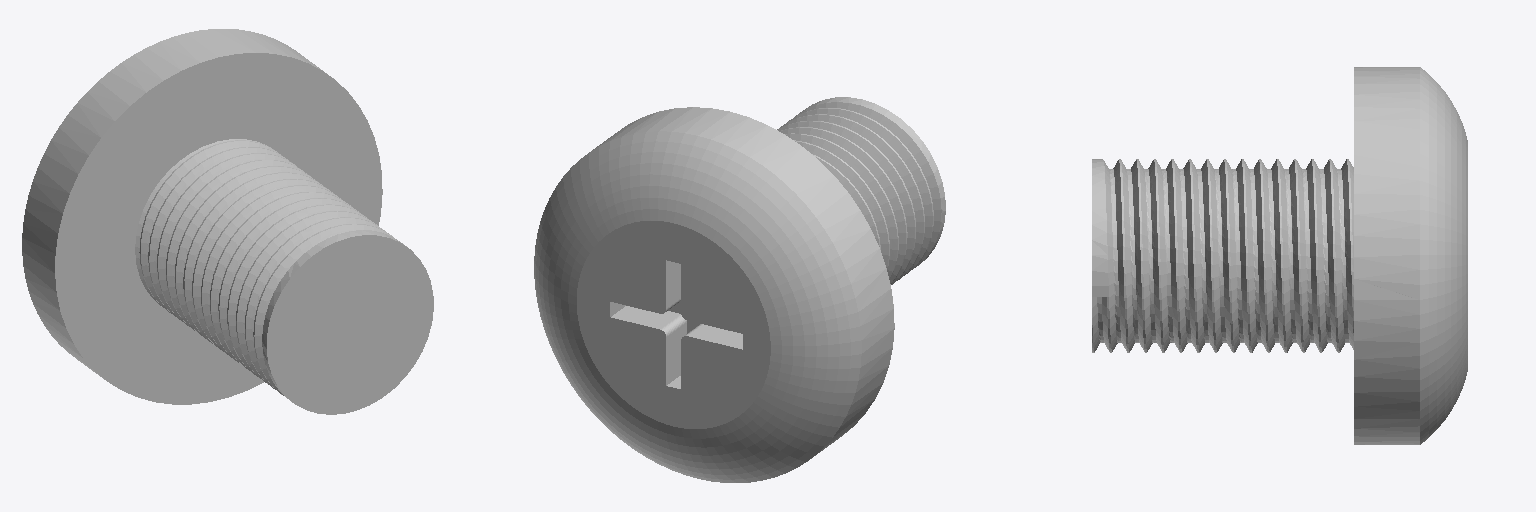
File: screw_3-16.obj
The picture shows the model from 3 angles: view 1: azimuth 30°, elevation 25°; view 2: azimuth 150°, elevation 25°; view 3: azimuth 270°, elevation 25°; orthographic projection.
Visible parts, largest first — view 1: screw_3by16; view 2: screw_3by16; view 3: screw_3by16.
Boxes of the visible parts, x1,y1,x2,y2 form: screw_3by16: [22, 29, 433, 414]; screw_3by16: [534, 97, 945, 482]; screw_3by16: [1092, 67, 1467, 444].
Bounding box in the file's own units: 6.86 × 6.86 × 6.83.